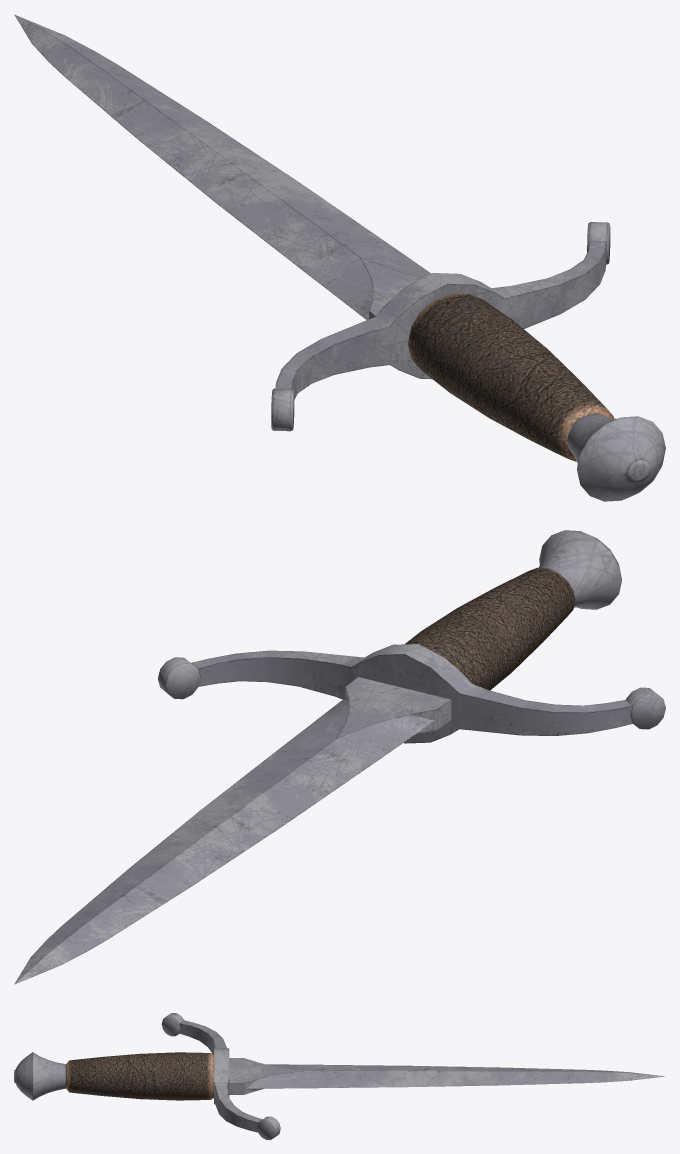
File: hancer1.fbx
The picture shows the model from 3 angles, top to bottom: view 1: azimuth 30°, elevation 25°; view 2: azimuth 150°, elevation 25°; view 3: azimuth 270°, elevation 25°; orthographic projection. The views are drawn at different scales.
Parts seen in each view (by area): view 1: g; view 2: g; view 3: g.
Part boxes in pixels (bbox=[...]): g: bbox=[14, 14, 665, 501]; g: bbox=[14, 530, 665, 984]; g: bbox=[14, 1013, 665, 1139].
Bounding box in the file's own units: 81.57 × 16.91 × 200.
1 material, 1 textured.
